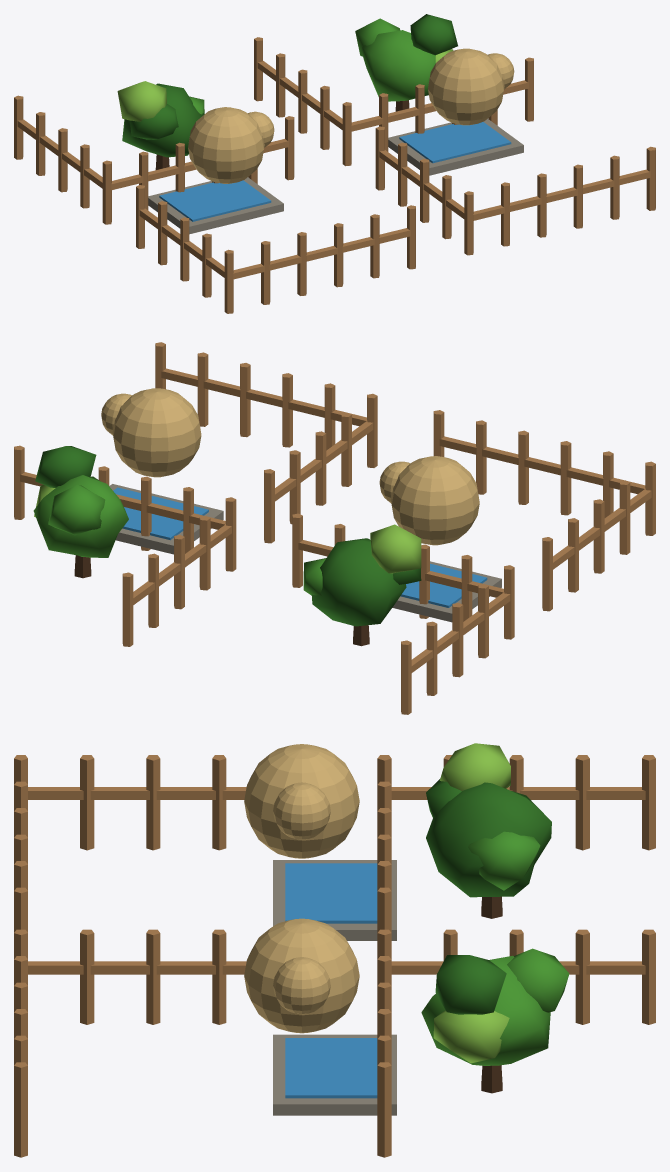
File: building_zoo.fbx
3 renders of one model, top to bottom at view 1: azimuth 30°, elevation 25°; view 2: azimuth 150°, elevation 25°; view 3: azimuth 270°, elevation 25°, orthographic. The views are drawn at different scales.
Parts seen in each view (by area): view 1: building_zoo; view 2: building_zoo; view 3: building_zoo.
Part boxes in pixels (box(x1,y1,x2,y2)): building_zoo: box(14, 14, 655, 313); building_zoo: box(14, 342, 655, 714); building_zoo: box(14, 743, 655, 1157).
Bounding box in the file's own units: 89.63 × 22 × 77.71.
